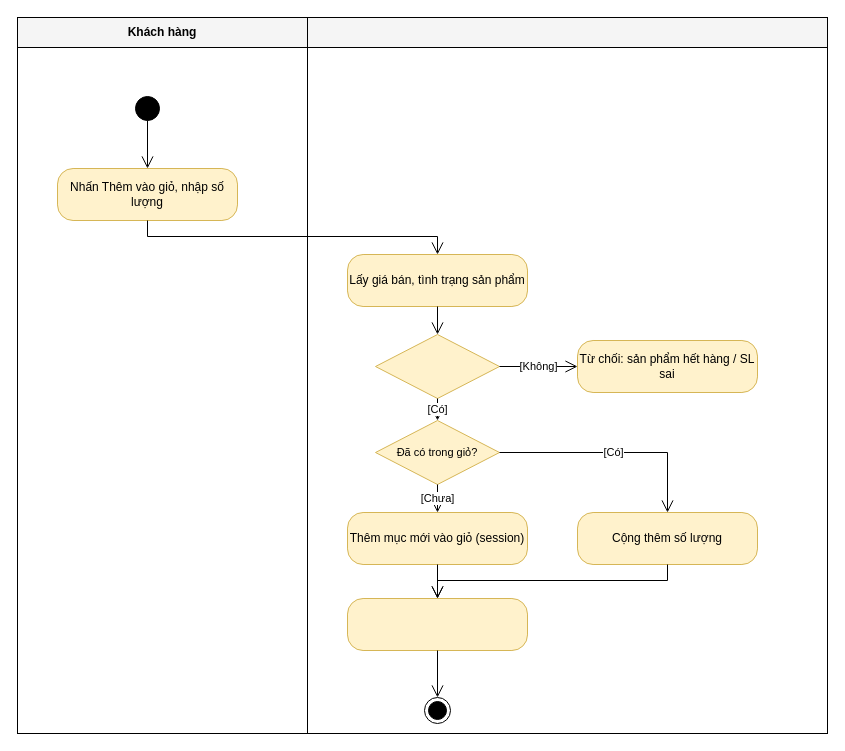
Some shapes in this 845 by 751 pixel diagram are drawn without their labels. The centre of each missing label's shape, as x and y in pixels:
"Còn hàng và SL > 0?" goes at point (437, 366).
"Cập nhật biểu tượng giỏ, thông báo" goes at point (437, 624).
"Hệ thống" goes at point (567, 32).
